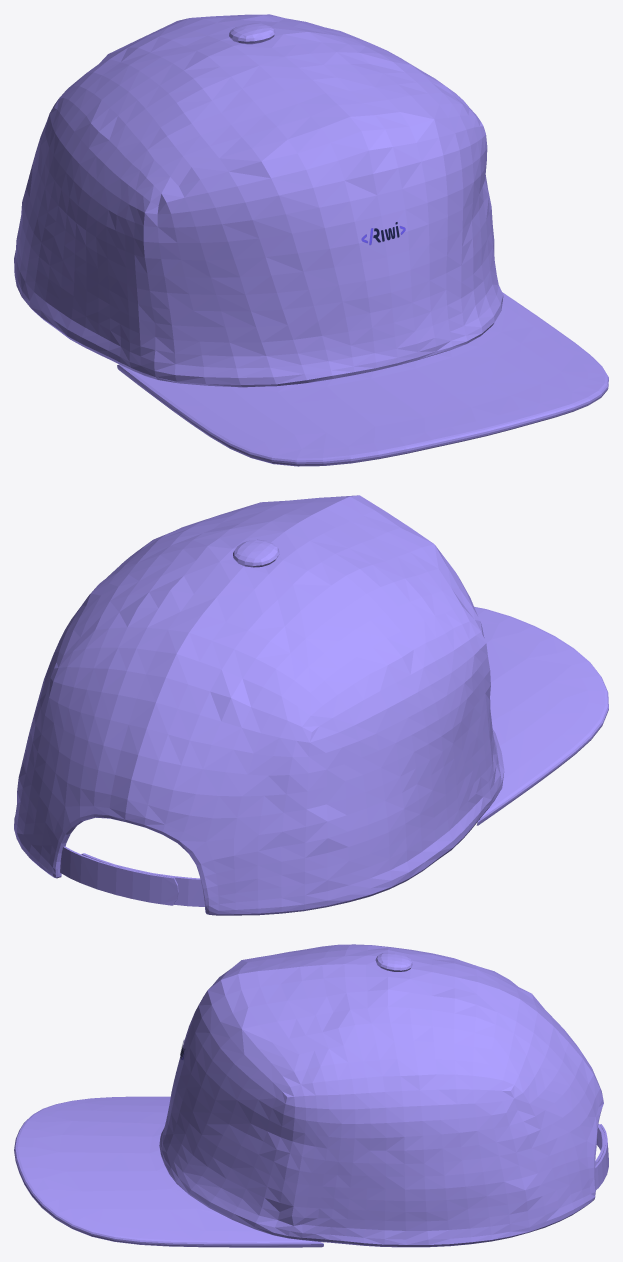
The model's file is cap-snapback.glb.
3 views of the same model, one above another, from view 1: azimuth 30°, elevation 25°; view 2: azimuth 150°, elevation 25°; view 3: azimuth 270°, elevation 25° (orthographic). The views are drawn at different scales.
Visible parts, largest first — view 1: cap_lp; view 2: cap_lp; view 3: cap_lp.
Boxes of the visible parts, x1,y1,x2,y2 form: cap_lp: [14, 14, 608, 466]; cap_lp: [14, 495, 608, 915]; cap_lp: [14, 944, 608, 1247].
Bounding box in the file's own units: 2.65 × 1.76 × 4.34.
2 materials, 1 textured.
